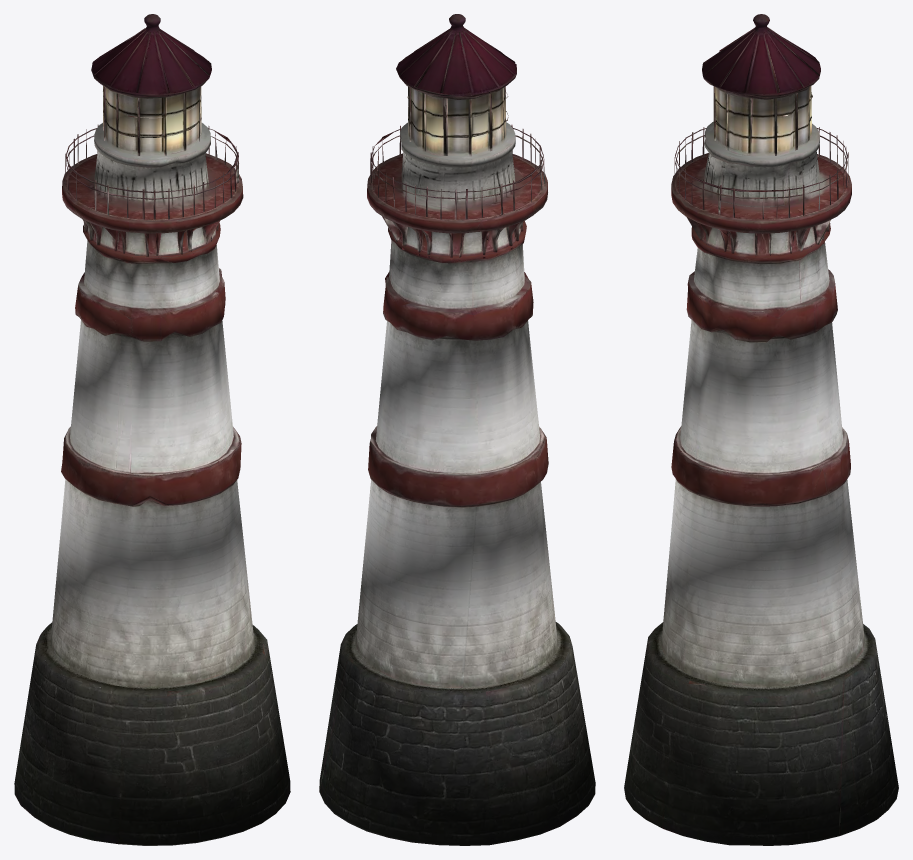
Rendered from lighthouse.glb.
The picture shows the model from 3 angles, left to right: view 1: azimuth 30°, elevation 25°; view 2: azimuth 150°, elevation 25°; view 3: azimuth 270°, elevation 25°; orthographic projection.
Size of the model in its own units: 0.3062 by 0.9507 by 0.3062.
1 material, 1 textured.
